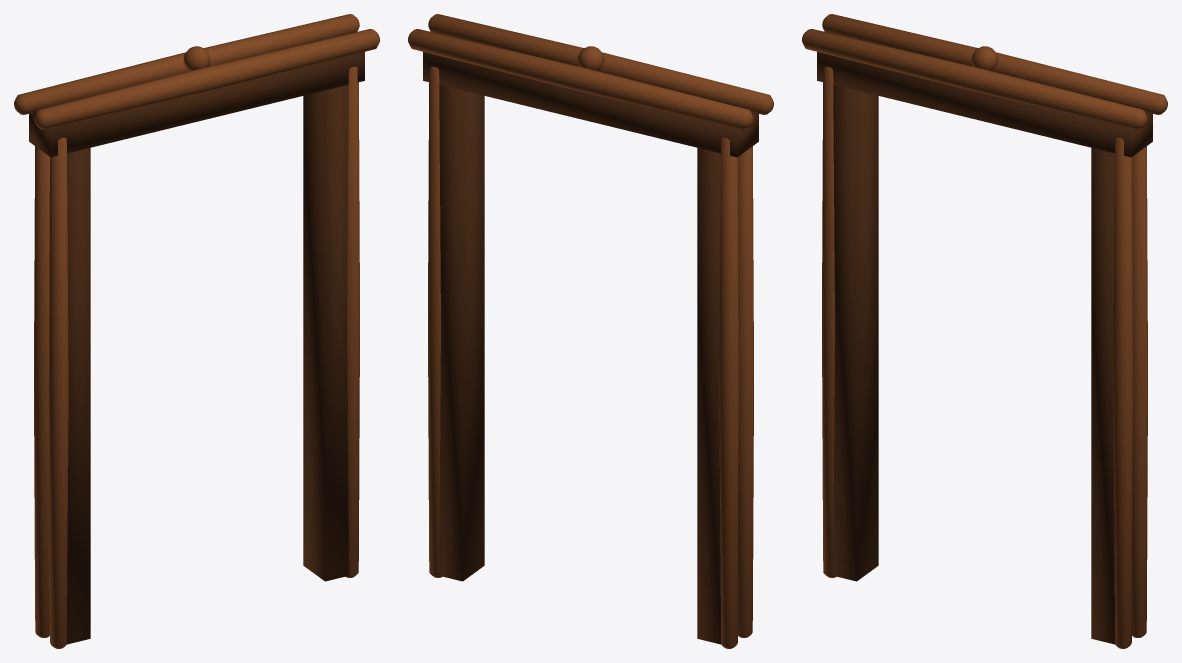
The model's file is tuer_zarge.glb.
3 renders of one model, left to right at view 1: azimuth 30°, elevation 25°; view 2: azimuth 150°, elevation 25°; view 3: azimuth 330°, elevation 25°, orthographic.
Parts seen in each view (by area): view 1: TuerZarge; view 2: TuerZarge; view 3: TuerZarge.
Part boxes in pixels (x1,y1,x2,y2): TuerZarge: (14,14,379,648); TuerZarge: (408,14,773,648); TuerZarge: (802,14,1167,648).
Bounding box in the file's own units: 1.46 × 2.28 × 0.2356.
Materials: 1 (1 with a texture image).
